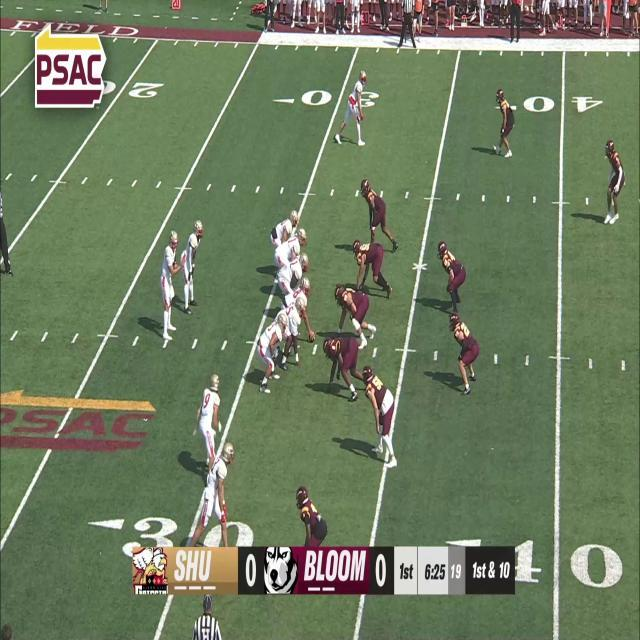football: (306, 330, 316, 343)
